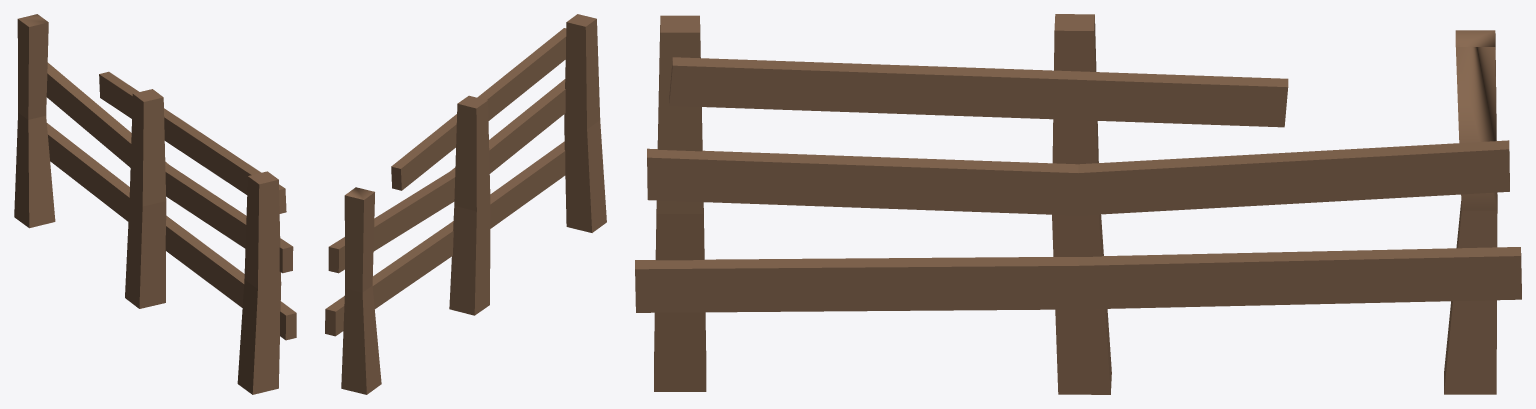
Rendered from mesh_fence _2.fbx.
3 views of the same model, side by side, from view 1: azimuth 30°, elevation 25°; view 2: azimuth 150°, elevation 25°; view 3: azimuth 270°, elevation 25° (orthographic). The views are drawn at different scales.
Visible parts, largest first — view 1: Fence_2; view 2: Fence_2; view 3: Fence_2.
Boxes of the visible parts, bbox=[...] form: Fence_2: bbox=[14, 14, 296, 394]; Fence_2: bbox=[325, 14, 606, 394]; Fence_2: bbox=[635, 14, 1521, 394].
Bounding box in the file's own units: 0.1501 × 0.7677 × 1.71.
